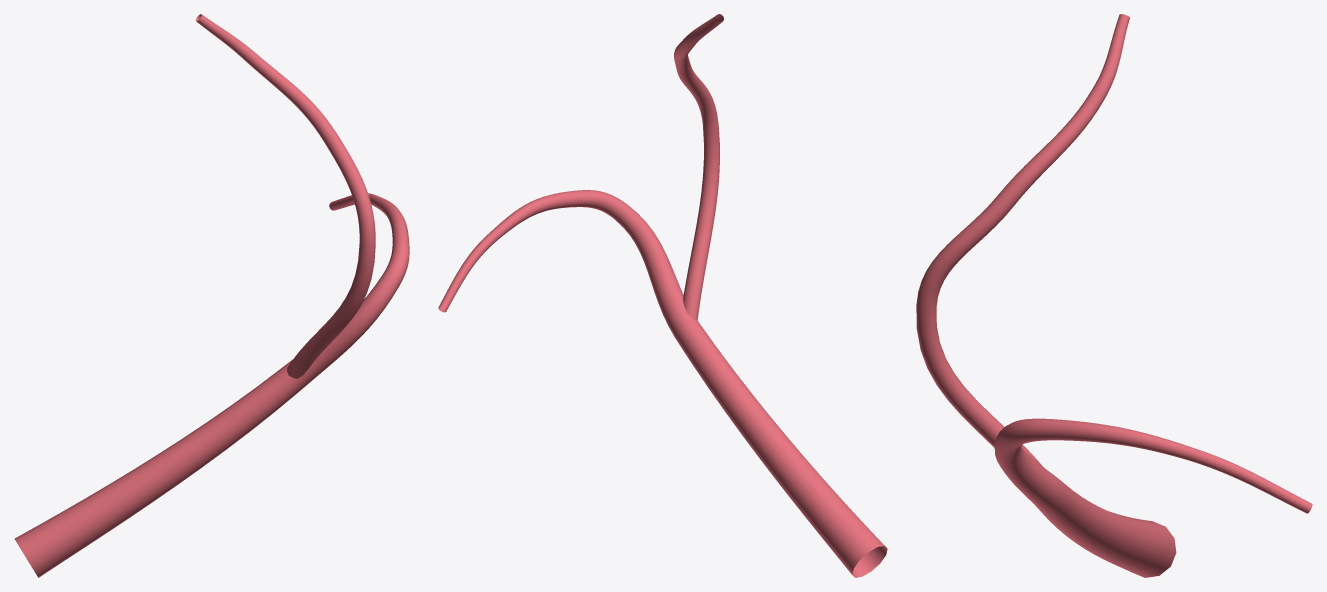
3 renders of one model, left to right at view 1: azimuth 30°, elevation 25°; view 2: azimuth 150°, elevation 25°; view 3: azimuth 270°, elevation 25°, orthographic. The views are drawn at different scales.
Parts seen in each view (by area): view 1: ZA_3cc8a34885a1ae85; view 2: ZA_3cc8a34885a1ae85; view 3: ZA_3cc8a34885a1ae85.
Boxes of the visible parts, x1,y1,x2,y2 form: ZA_3cc8a34885a1ae85: (14, 14, 409, 577); ZA_3cc8a34885a1ae85: (438, 14, 887, 577); ZA_3cc8a34885a1ae85: (916, 14, 1312, 577).
Bounding box in the file's own units: 0.0485 × 0.0634 × 0.0346.
